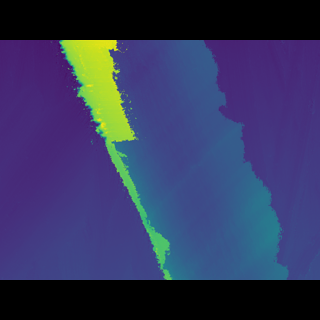Loch: (58, 69, 292, 249)
